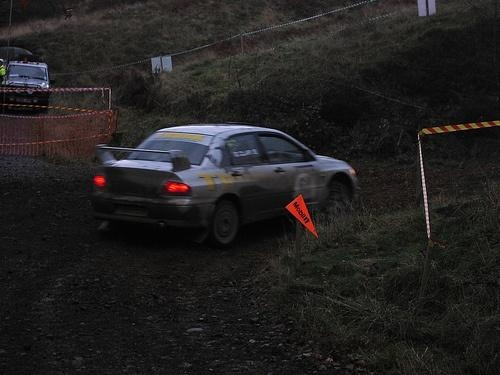car: (92, 125, 362, 248), (5, 60, 53, 113)
